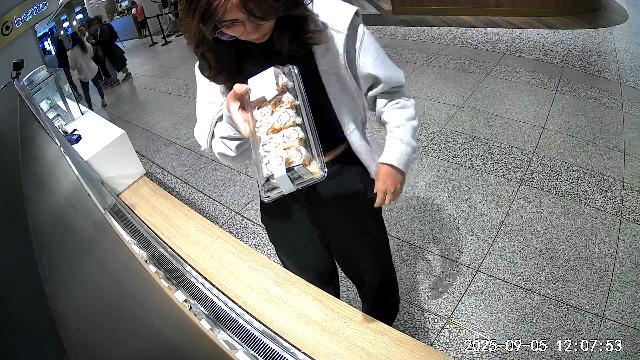sushi-box: (244, 65, 327, 202)
